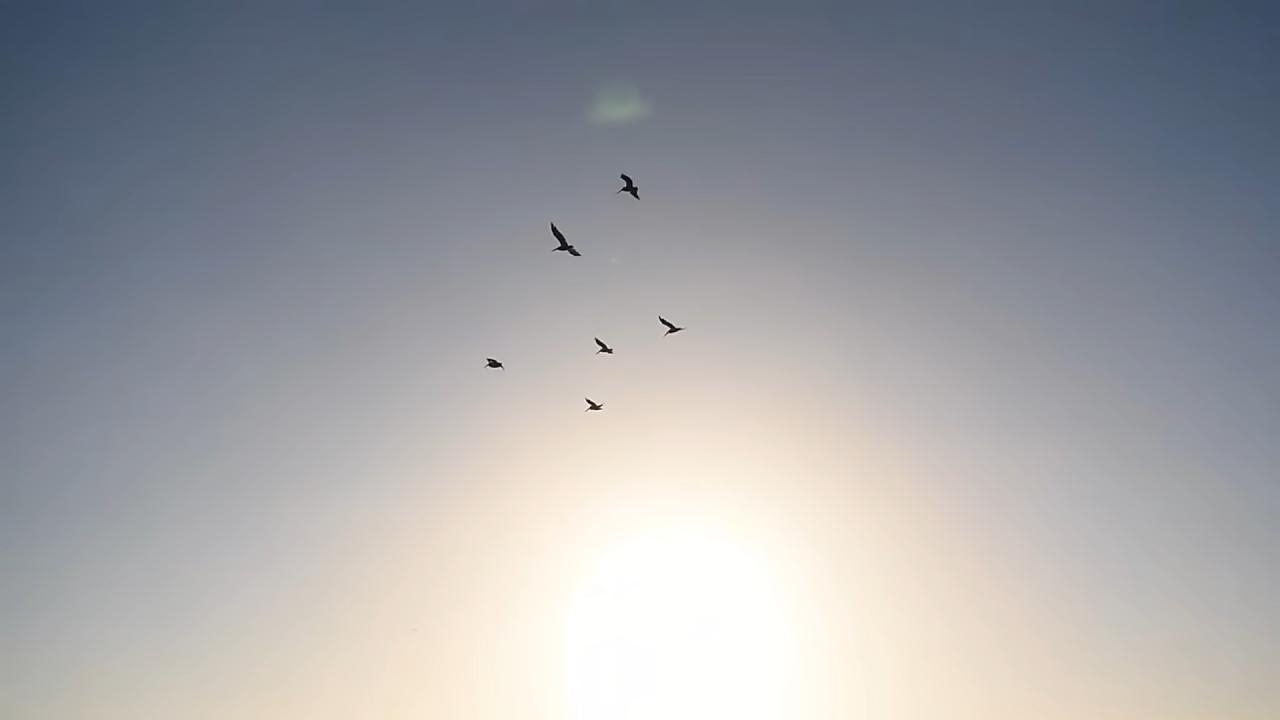Bird: (544, 218, 586, 262), (612, 169, 645, 206), (655, 313, 689, 340), (590, 334, 616, 358), (580, 394, 608, 415), (480, 355, 508, 373)
